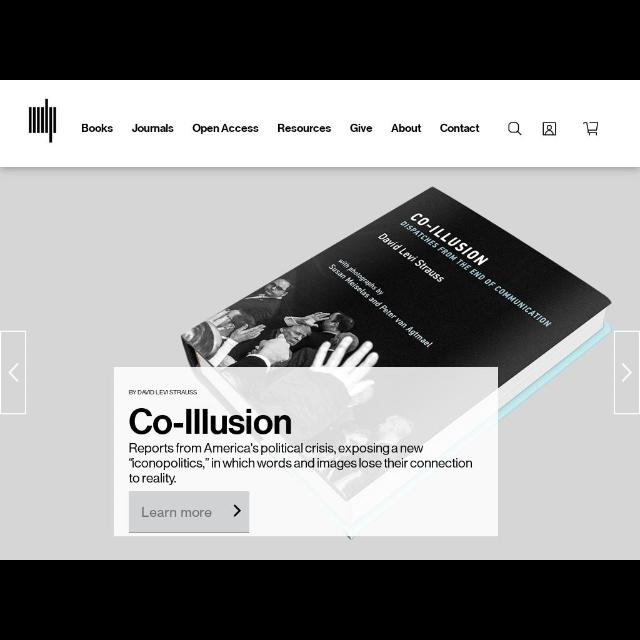backgroundimage: (2, 167, 640, 558)
icon: (5, 362, 22, 386), (620, 358, 632, 386), (582, 120, 600, 136), (506, 122, 526, 136), (228, 501, 242, 521), (541, 121, 557, 137)
image: (24, 99, 64, 143)
text: (128, 440, 474, 486), (126, 404, 294, 436), (128, 387, 198, 397), (191, 124, 259, 134), (278, 124, 332, 134), (132, 124, 176, 134), (80, 122, 114, 134), (391, 122, 422, 134), (440, 125, 480, 134), (351, 122, 374, 134)
textbutton: (128, 491, 248, 533)
toolbar: (1, 80, 639, 166)
